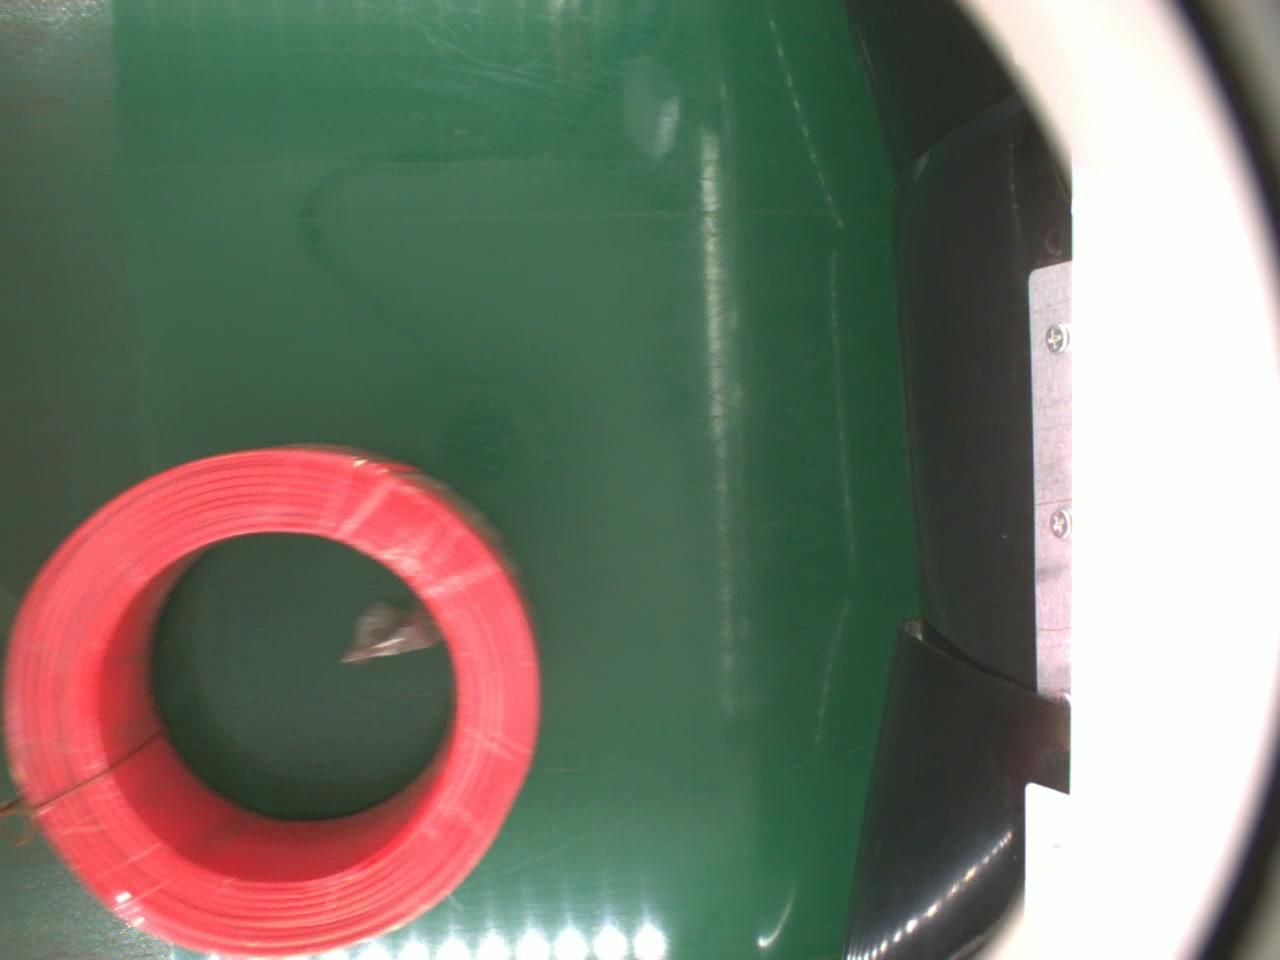red: (0, 437, 539, 960)
